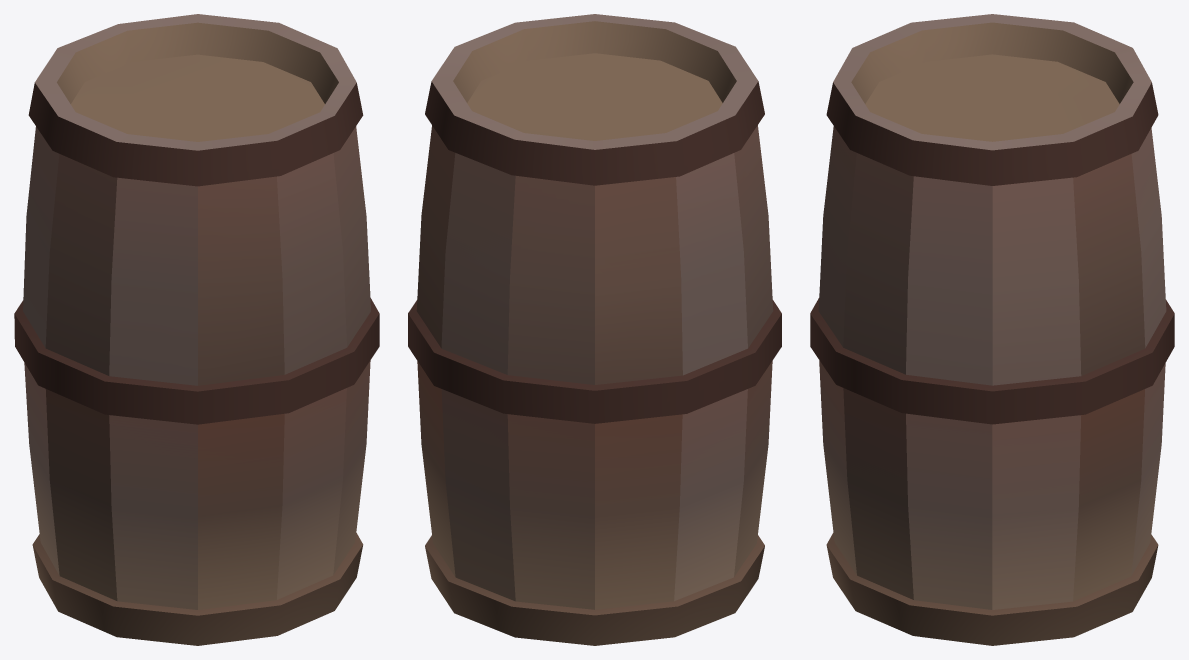
Rendered from prop_barrel.glb.
The picture shows the model from 3 angles, left to right: view 1: azimuth 30°, elevation 25°; view 2: azimuth 150°, elevation 25°; view 3: azimuth 270°, elevation 25°; orthographic projection.
Parts seen in each view (by area): view 1: prop_barrel_mesh; view 2: prop_barrel_mesh; view 3: prop_barrel_mesh.
Part boxes in pixels (x1=…): prop_barrel_mesh: x1=14, y1=14, x2=379, y2=645; prop_barrel_mesh: x1=408, y1=14, x2=781, y2=645; prop_barrel_mesh: x1=810, y1=14, x2=1174, y2=645.
Size of the model in its own units: 0.6074 by 0.8999 by 0.6001.
